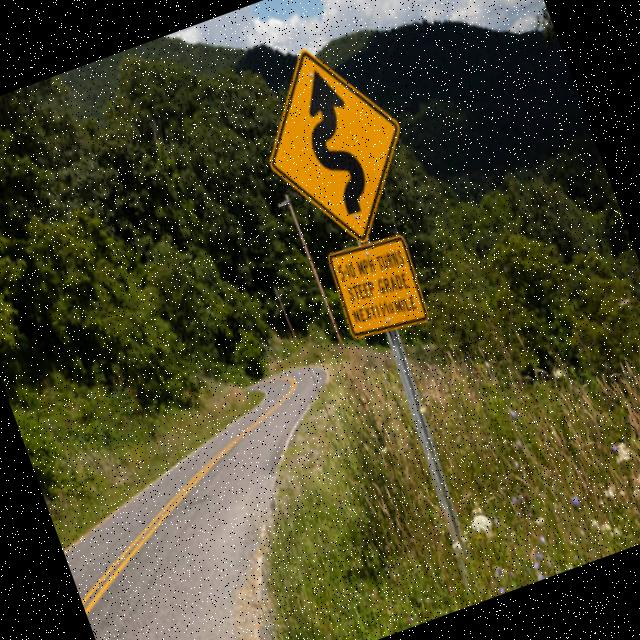left_sharp_curve: (236, 24, 434, 262)
